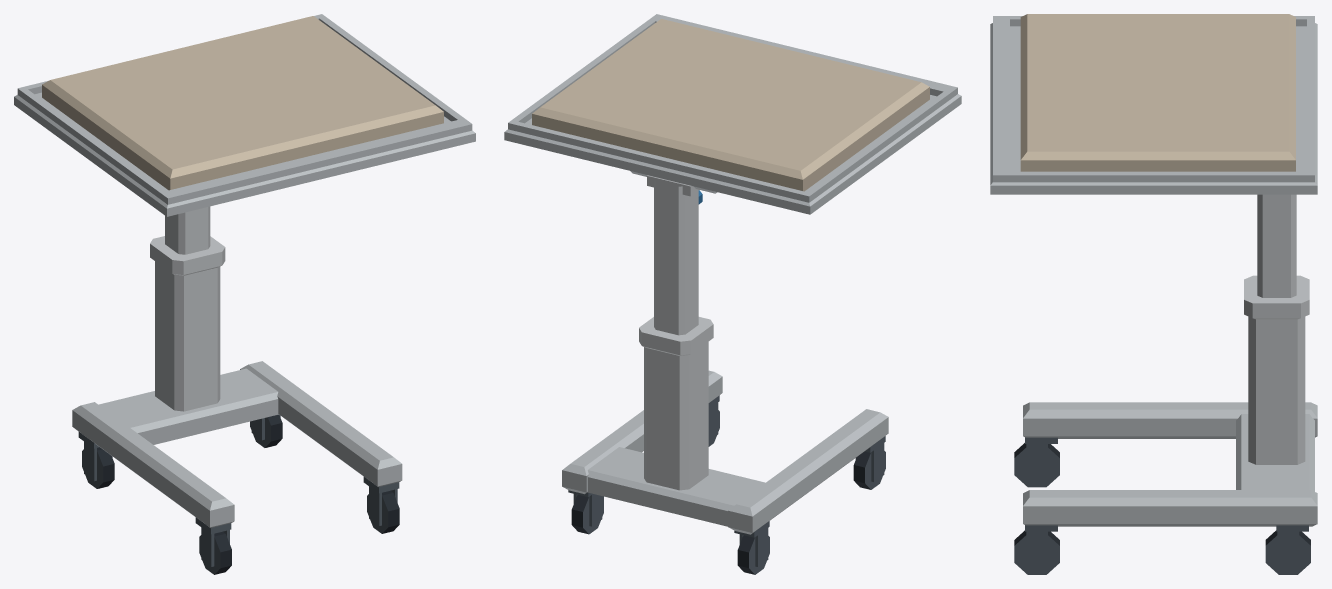
Rendered from overbed-table-7409a5.glb.
3 views of the same model, side by side, from view 1: azimuth 30°, elevation 25°; view 2: azimuth 150°, elevation 25°; view 3: azimuth 270°, elevation 25° (orthographic). The views are drawn at different scales.
Parts seen in each view (by area): view 1: table-top, overbed-table, wheel-2, wheel-4, caster-2, wheel-1, caster-4, wheel-3; view 2: table-top, overbed-table, wheel-1, wheel-3, wheel-2, caster-1; view 3: table-top, overbed-table, wheel-2, caster-3, wheel-3, caster-2, wheel-4, caster-4.
Boxes of the visible parts, x1,y1,x2,y2 form: table-top: (14,14,475,216); overbed-table: (72,206,402,527); wheel-2: (199,531,231,574); wheel-4: (367,490,399,533); caster-2: (195,517,231,566); wheel-1: (82,447,114,488); caster-4: (363,477,399,525); wheel-3: (250,414,282,447); table-top: (504,14,961,214); overbed-table: (562,175,888,534); wheel-1: (737,535,769,574); wheel-3: (571,495,603,534); wheel-2: (853,451,885,489); caster-1: (734,521,769,566); table-top: (990,14,1317,194); overbed-table: (1023,194,1317,526); wheel-2: (1014,443,1059,487); caster-3: (1276,525,1308,566); wheel-3: (1265,530,1310,574); caster-2: (1025,437,1057,479); wheel-4: (1014,530,1059,574); caster-4: (1025,525,1057,566).
Size of the model in its own units: 0.7 by 0.9 by 0.6.
